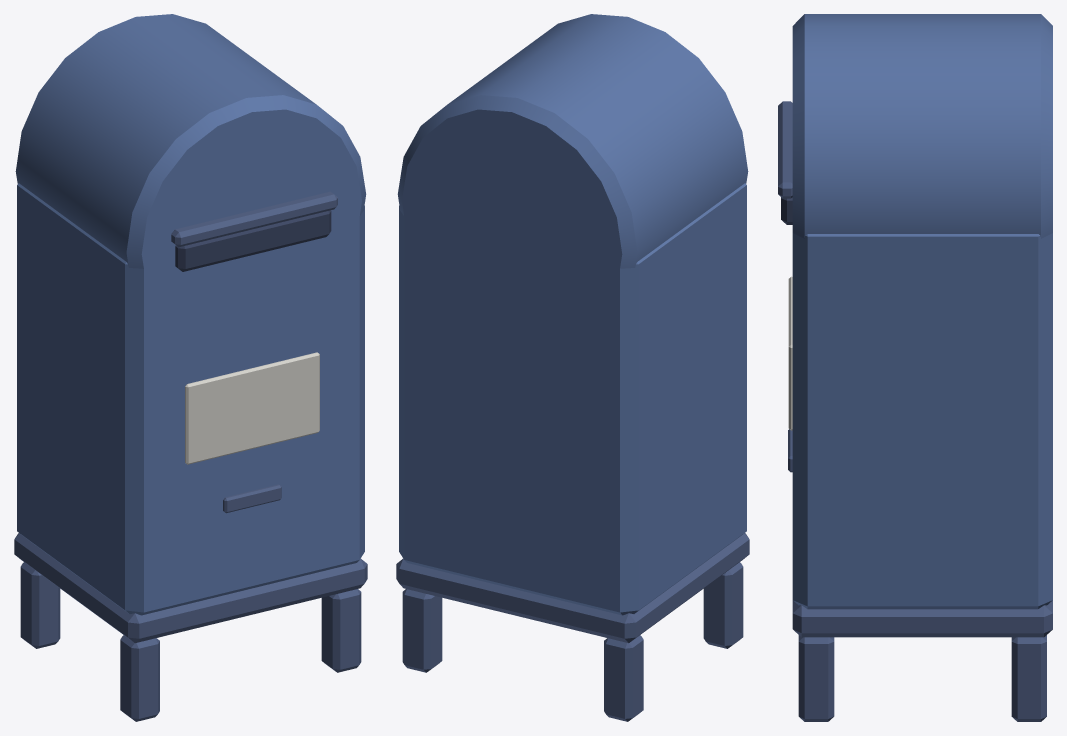
The model's file is mailbox.glb.
The picture shows the model from 3 angles, left to right: view 1: azimuth 30°, elevation 25°; view 2: azimuth 150°, elevation 25°; view 3: azimuth 270°, elevation 25°; orthographic projection. The views are drawn at different scales.
Visible parts, largest first — view 1: Mailbox; view 2: Mailbox; view 3: Mailbox.
Part boxes in pixels (left/top/right/bottom): Mailbox: left=14, top=14, right=367, bottom=721; Mailbox: left=396, top=14, right=749, bottom=721; Mailbox: left=778, top=14, right=1052, bottom=721.
Size of the model in its own units: 0.5 by 1.19 by 0.465.
